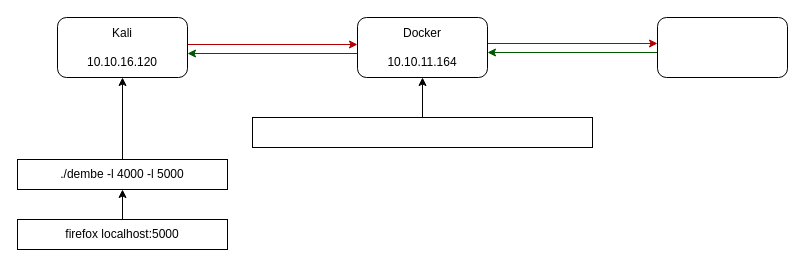
This 805x267 diagram has some shape labels left out. The shapes that lost their labels are listed below. From the top down, each one's box as (x1, y1, x2, y2) in pixels, then its label:
(656, 16, 788, 78): Server 172.17.0.1
(252, 116, 592, 148): ./dembe -c 172.17.0.1 3000 -c 10.10.16.120 4000
